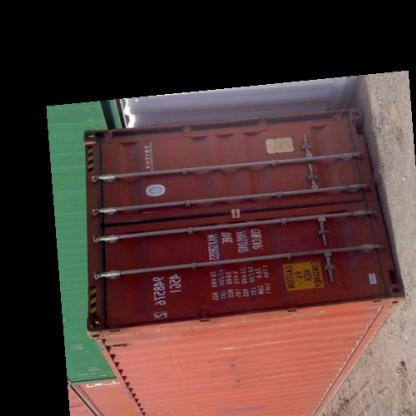Damage: (87, 308, 138, 340), (270, 224, 316, 254), (221, 355, 245, 393)
